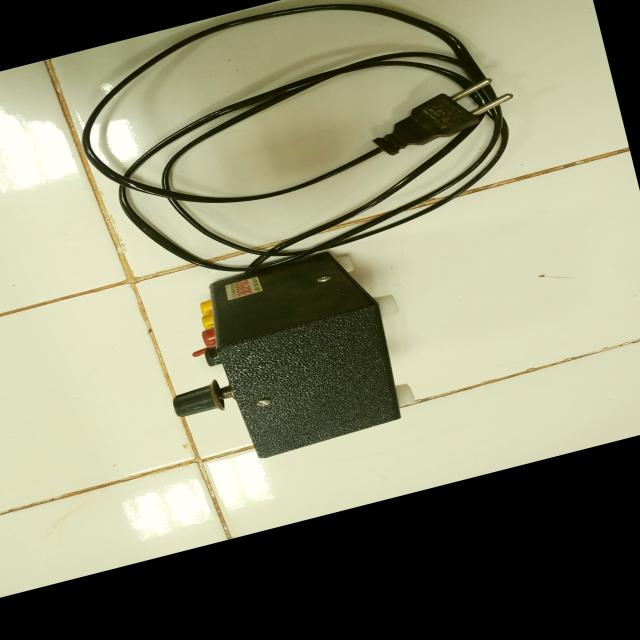Ripple Tank Power Supply: (133, 228, 437, 492)
